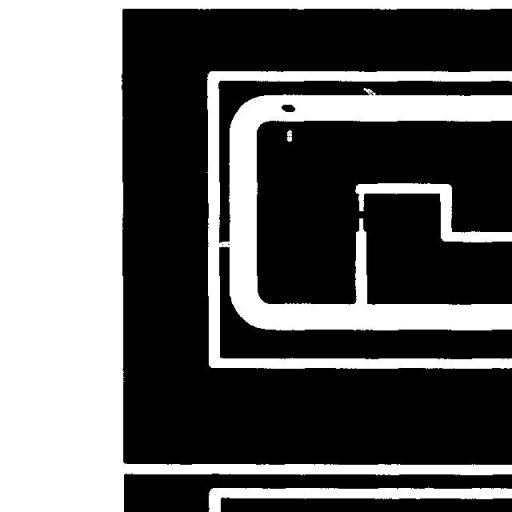copper: (274, 97, 302, 119)
mousebite: (355, 80, 383, 104)
open: (207, 234, 240, 254)
pin-hole: (279, 122, 299, 149)
short: (346, 203, 374, 226)
